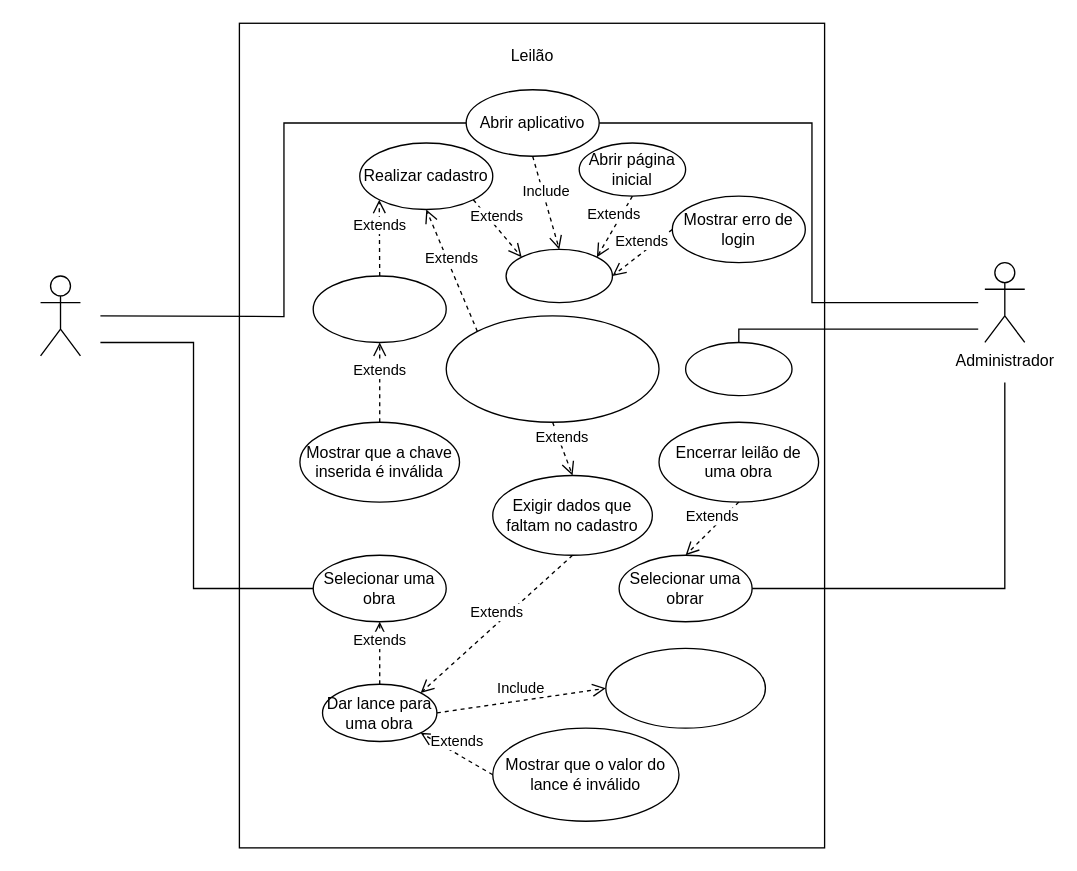
Image size: 1077x871. Some labels were removed from this diagram. The shapes that lost their labels are listed below. From the top down, each one's centre as x and y in pixels, then its label:
the point at 558,275: Fazer login
the point at 59,315: Convidado
the point at 379,308: Inserir chave especial
the point at 552,368: Mostrar que os dados do cartão de crédito são inválidos
the point at 738,368: Cadastrar obra
the point at 684,687: Selecionar opção de parcelamento
